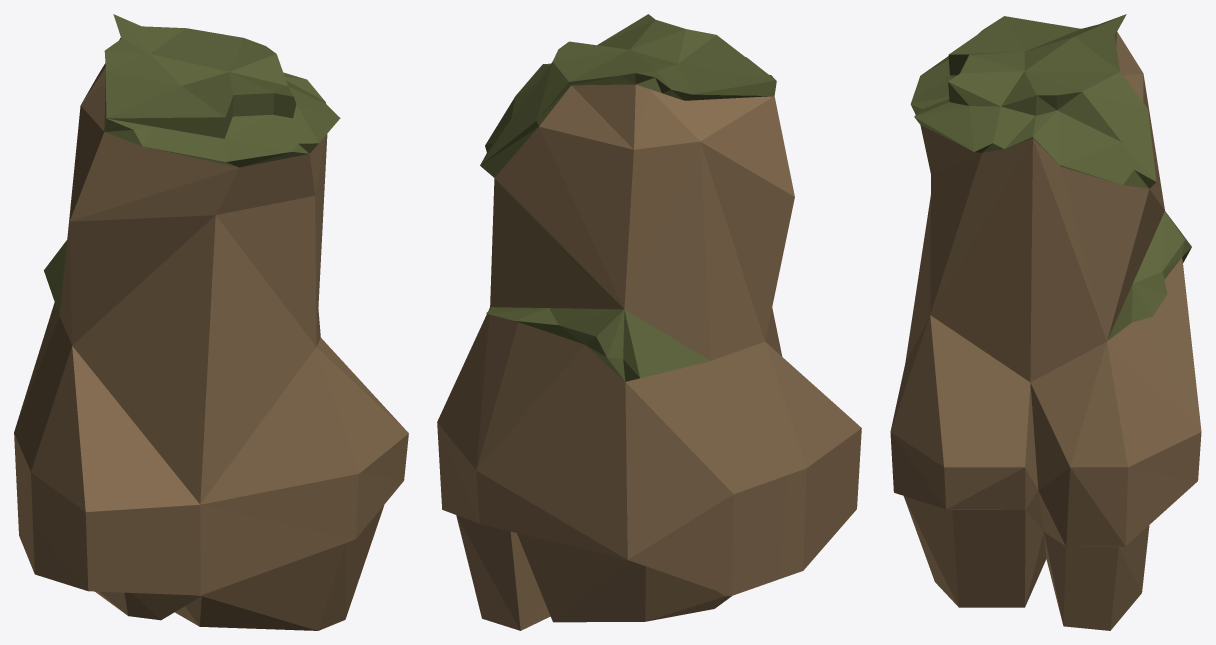
File: SM_Env_Rock_04.gltf
3 renders of one model, left to right at view 1: azimuth 30°, elevation 25°; view 2: azimuth 150°, elevation 25°; view 3: azimuth 270°, elevation 25°, orthographic. The views are drawn at different scales.
Parts seen in each view (by area): view 1: SM_Env_Rock_04; view 2: SM_Env_Rock_04; view 3: SM_Env_Rock_04.
Part boxes in pixels (x1,y1,x2,y2): SM_Env_Rock_04: (14, 14, 408, 630); SM_Env_Rock_04: (437, 14, 861, 630); SM_Env_Rock_04: (890, 14, 1201, 630).
Size of the model in its own units: 1.21 by 2.1 by 1.09.
Materials: 1 (1 with a texture image).
